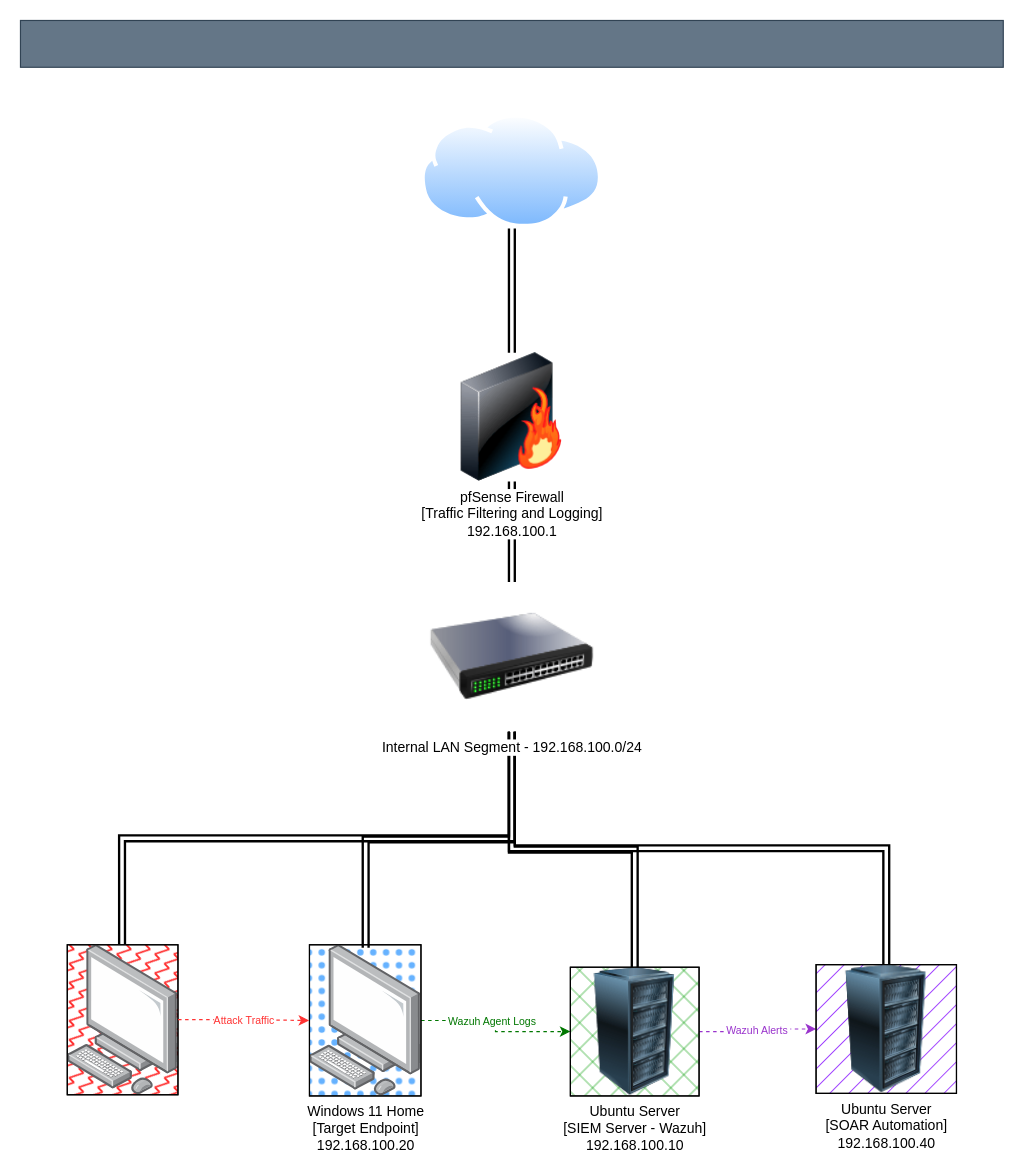
Image size: 1024x1175. Some labels were removed from this diagram. Each missing label, with the centre of its shape:
"Internet / External Host NAT Adapter" goes at point 511,170.
"Kali Linux [Attack Machine] 192.168.100.30" goes at point 122,1019.
"Salvas - SOC Homelab - Network Topology Diagram" goes at point 511,43.
